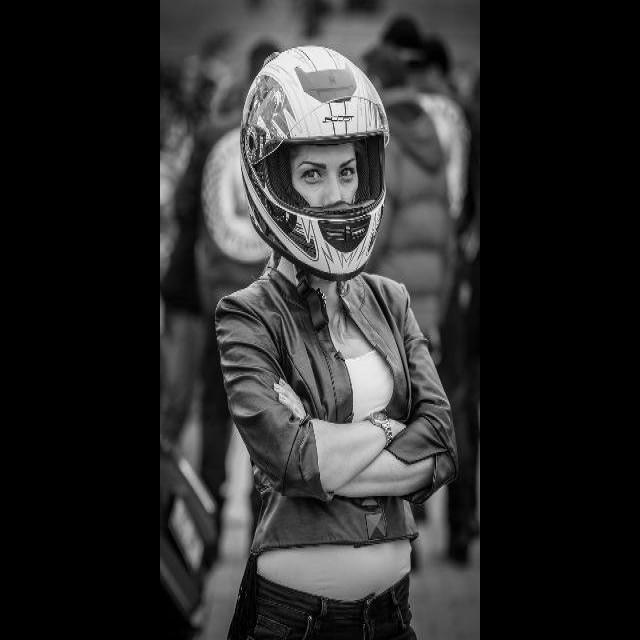5_casco: (238, 46, 388, 274)
